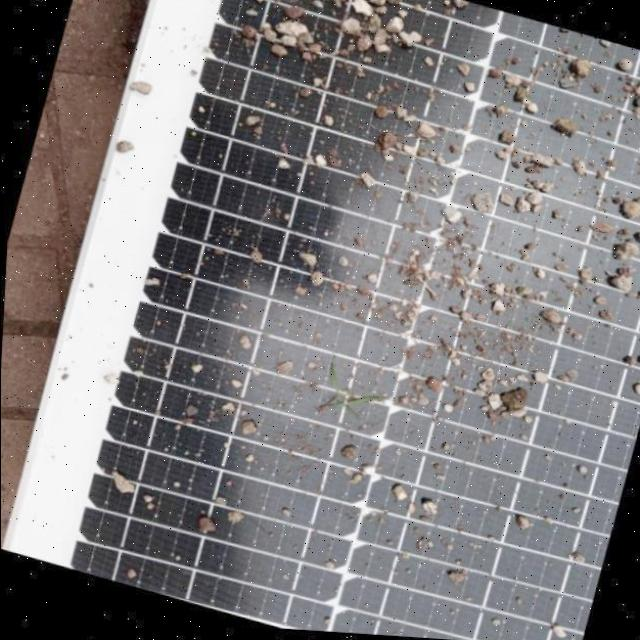Surface Contaminant: (55, 0, 640, 640)
